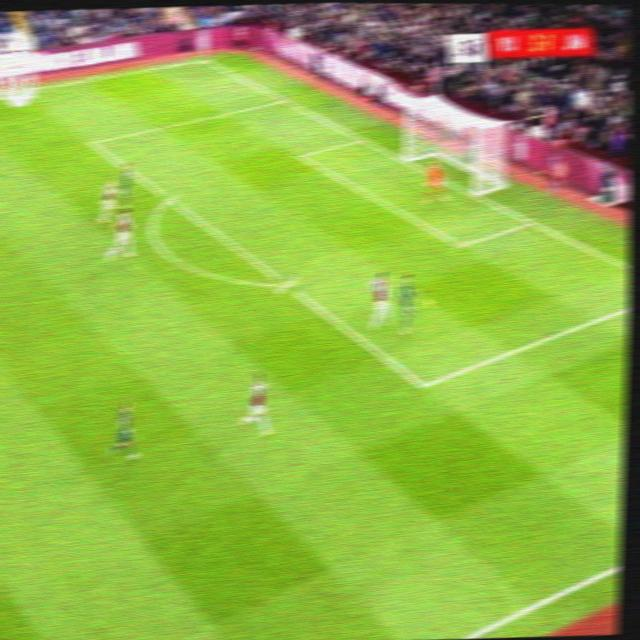bigarea_bottom_inner: (411, 371, 434, 397)
bigarea_top_inner: (82, 131, 101, 151)
bigarea_top_outter: (275, 91, 294, 106)
bottom_arc_area_intersection: (273, 271, 298, 294)
corner: (193, 51, 214, 66)
smallarea_bottom_inner: (450, 231, 473, 255)
smallarea_bottom_outter: (522, 210, 541, 231)
smallarea_top_inner: (292, 146, 313, 165)
smallarea_top_outter: (353, 128, 372, 147)
top_arc_area_intersection: (160, 188, 180, 207)
